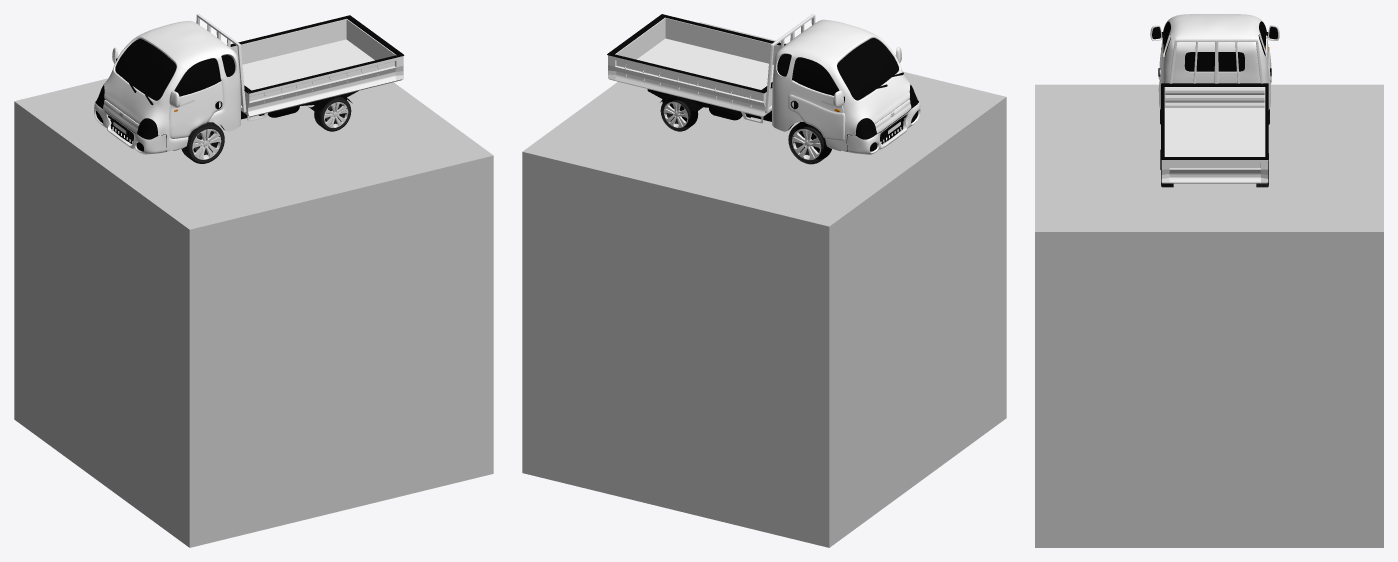
3 views of the same model, side by side, from view 1: azimuth 30°, elevation 25°; view 2: azimuth 150°, elevation 25°; view 3: azimuth 270°, elevation 25° (orthographic).
Parts seen in each view (by area): view 1: object 36, object 3, object 1, object 7, wheel.001_36, object 29, object 2; view 2: object 36, object 3, object 1, object 7, wheel.001_36, object 28, object 2; view 3: object 36, object 3, object 1, object 27, object 2.
Boxes of the visible parts, <box> form: object 36: <box>14,78,493,547</box>; object 3: <box>230,15,404,116</box>; object 1: <box>94,21,240,154</box>; object 7: <box>115,39,176,100</box>; wheel.001_36: <box>181,97,351,163</box>; object 29: <box>174,59,220,95</box>; object 2: <box>196,14,246,112</box>; object 36: <box>522,22,1006,547</box>; object 3: <box>607,14,785,116</box>; object 1: <box>772,19,920,154</box>; object 7: <box>837,38,898,100</box>; wheel.001_36: <box>660,96,831,164</box>; object 28: <box>793,58,838,95</box>; object 2: <box>765,14,815,113</box>; object 36: <box>1035,84,1383,547</box>; object 3: <box>1161,83,1268,183</box>; object 1: <box>1158,14,1271,109</box>; object 27: <box>1184,52,1244,71</box>; object 2: <box>1169,39,1263,83</box>.
Size of the model in its own units: 2 by 2.67 by 2.
Materials: 16 (2 with a texture image).
